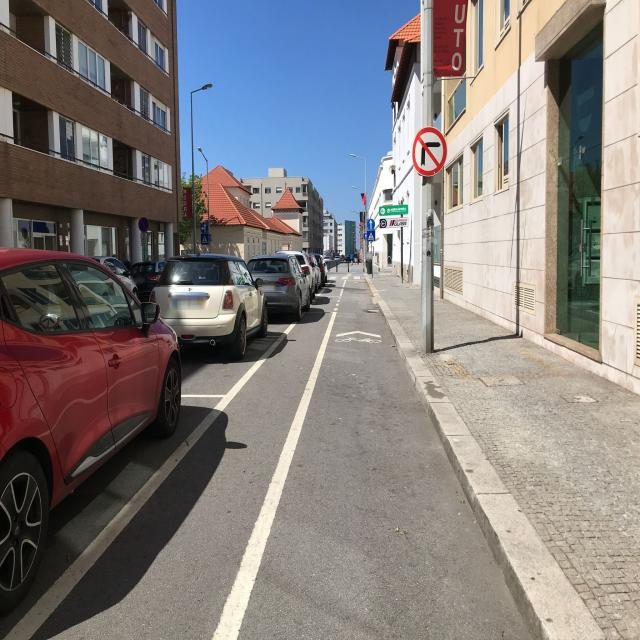forb_stopping: (138, 216, 149, 233)
